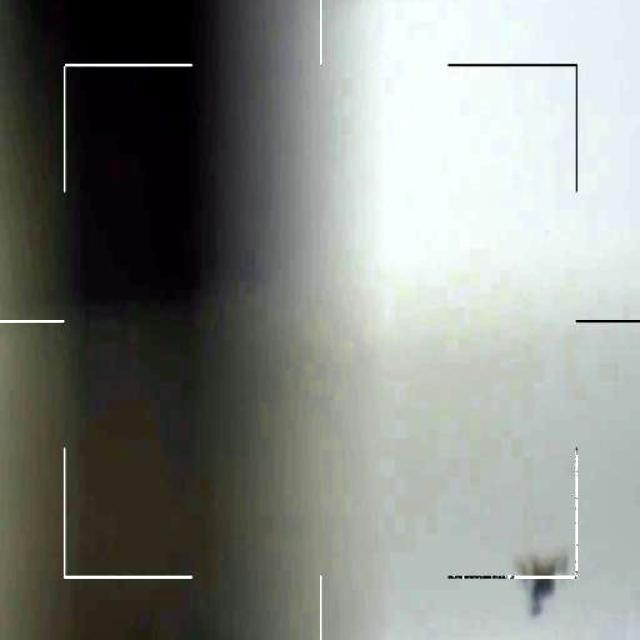bird: (521, 548, 578, 619)
